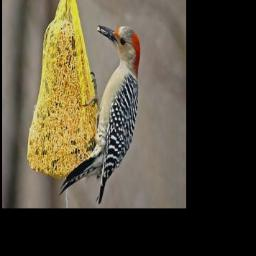Woodpecker: (55, 17, 152, 202)
